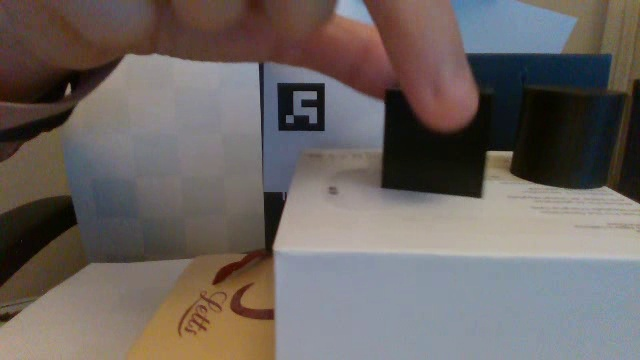cube: (373, 83, 502, 202)
cylindre: (504, 78, 633, 196)
